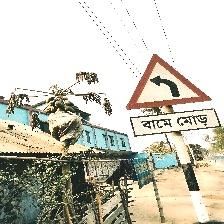Left-Turn: (125, 54, 219, 141)
